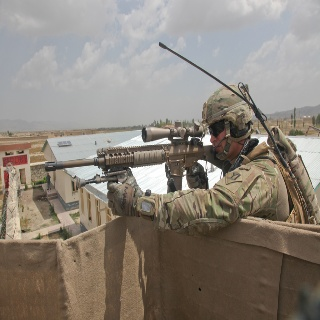rifle: (44, 120, 232, 191)
